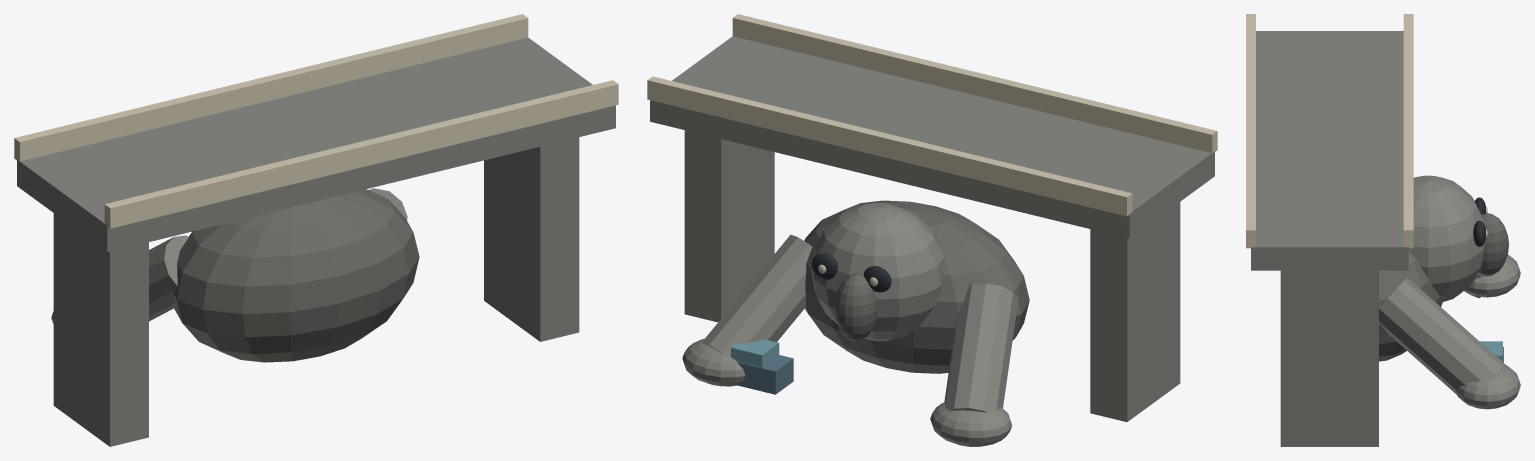
The model's file is frumont-troll.glb.
3 renders of one model, left to right at view 1: azimuth 30°, elevation 25°; view 2: azimuth 150°, elevation 25°; view 3: azimuth 270°, elevation 25°, orthographic. The views are drawn at different scales.
Visible parts, largest first — view 1: frumont-troll; view 2: frumont-troll; view 3: frumont-troll.
Part boxes in pixels (left/top/right/bottom): frumont-troll: left=14, top=14, right=618, bottom=446; frumont-troll: left=647, top=14, right=1217, bottom=446; frumont-troll: left=1246, top=14, right=1520, bottom=446.
Size of the model in its own units: 26 by 12.72 by 13.95.
